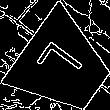L_SE: (35, 40, 92, 93)
